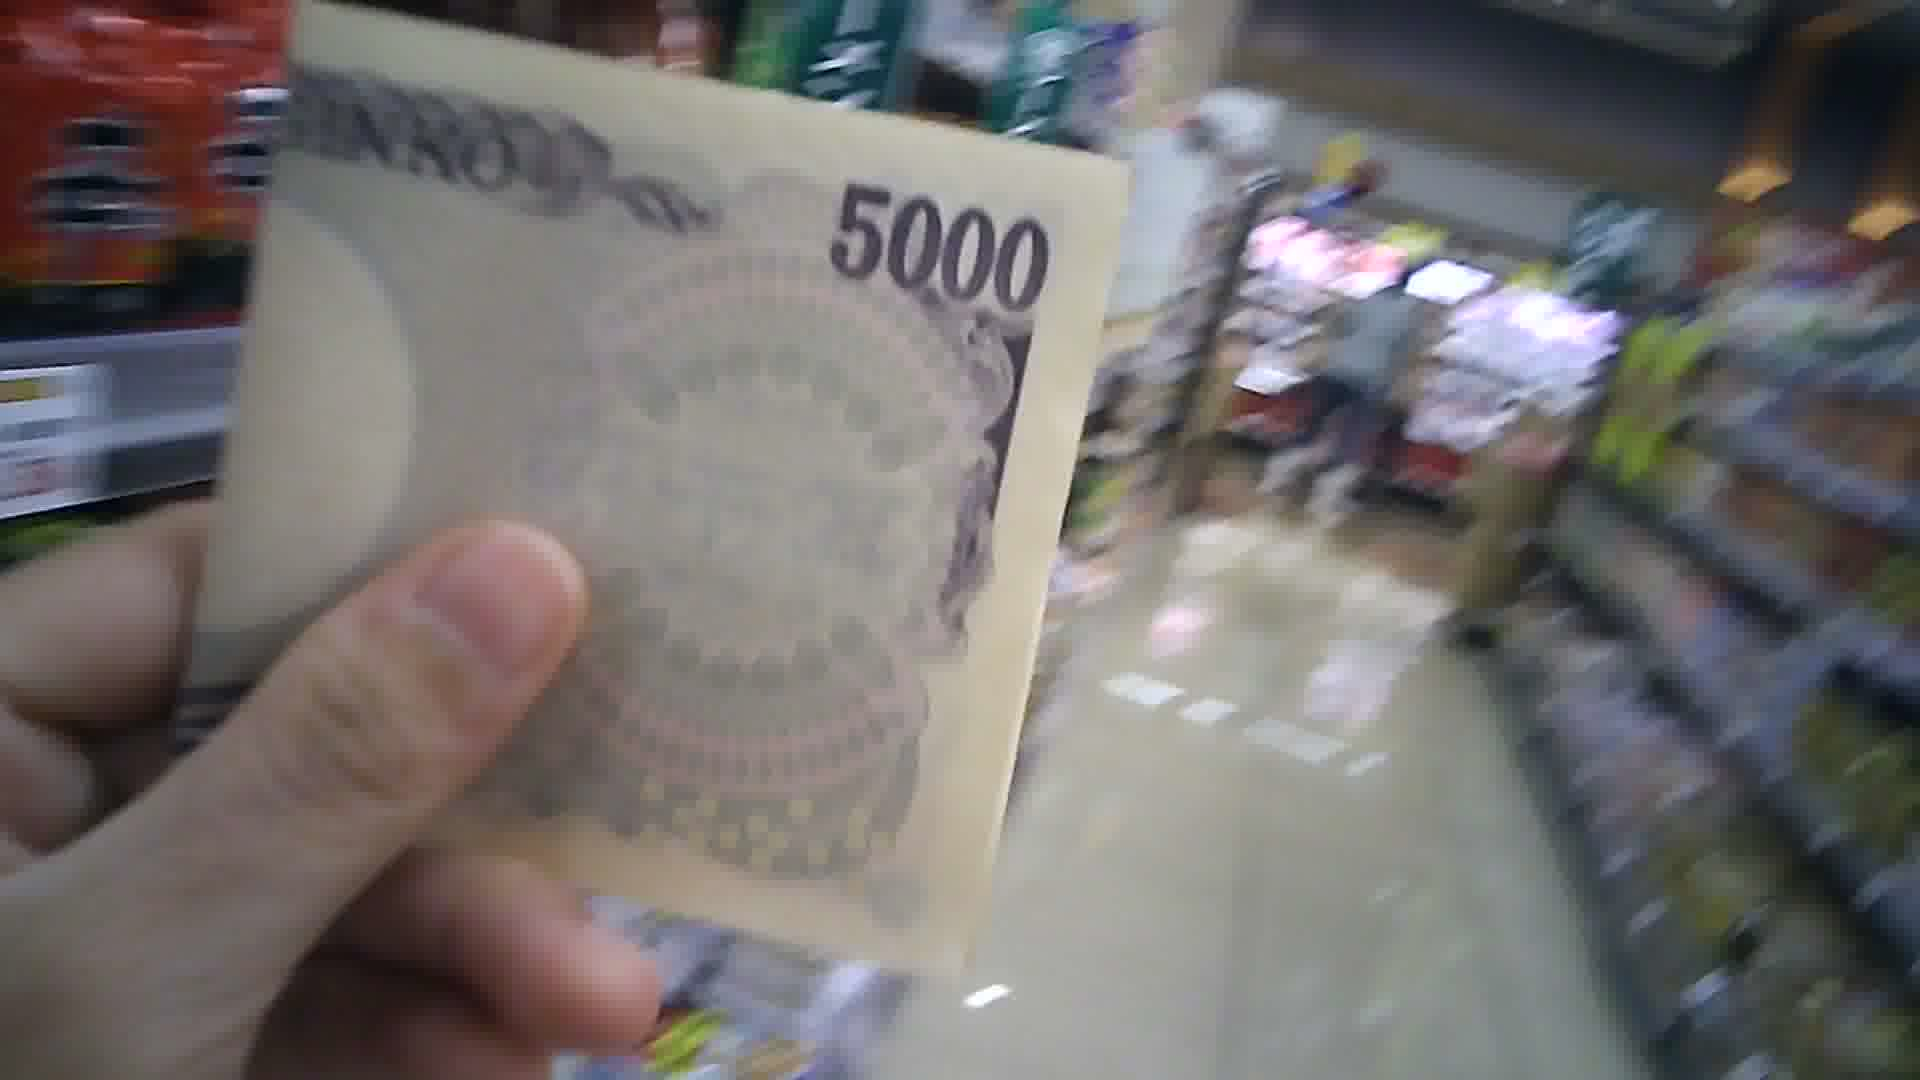5,000 Yen: (166, 5, 1129, 990)
